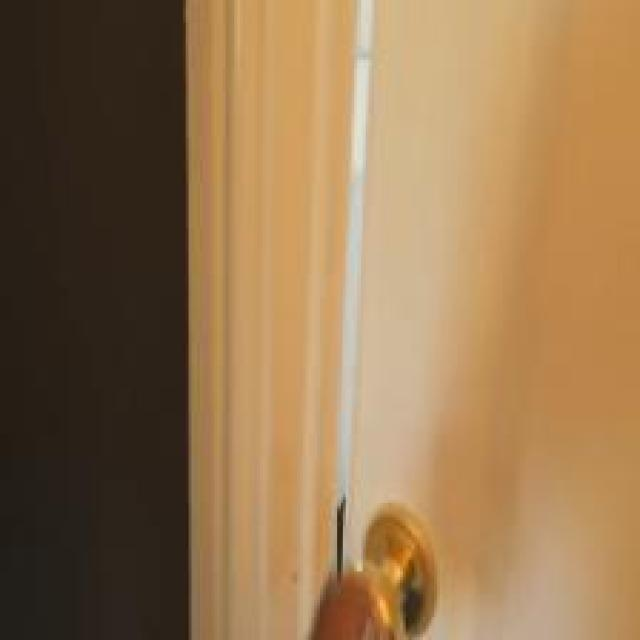other: (300, 486, 431, 628)
